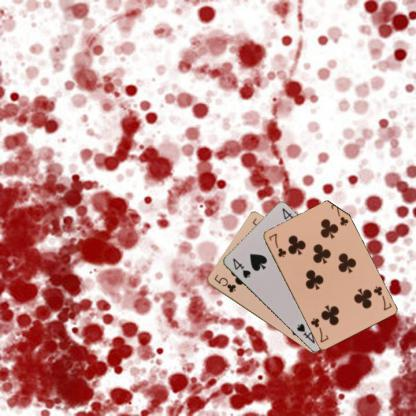4s: (230, 255, 252, 280)
5c: (211, 272, 237, 294)
7c: (370, 284, 393, 311), (266, 231, 287, 258)
